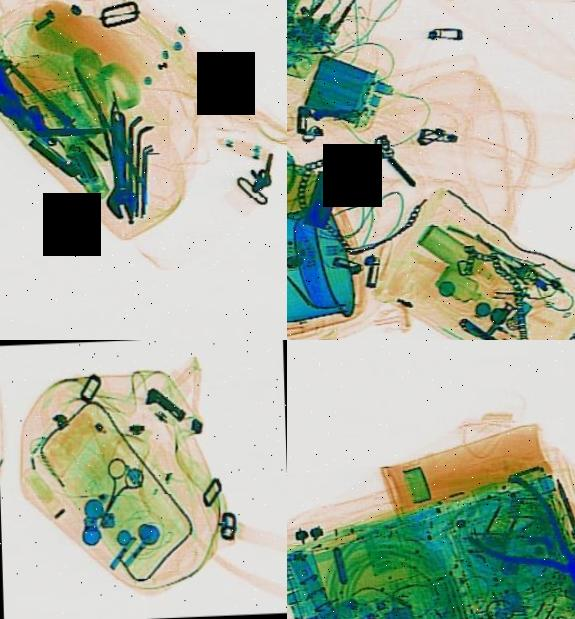Pliers: (464, 460, 575, 619)
Scissors: (81, 452, 154, 533)
Wrench: (102, 109, 140, 221)
